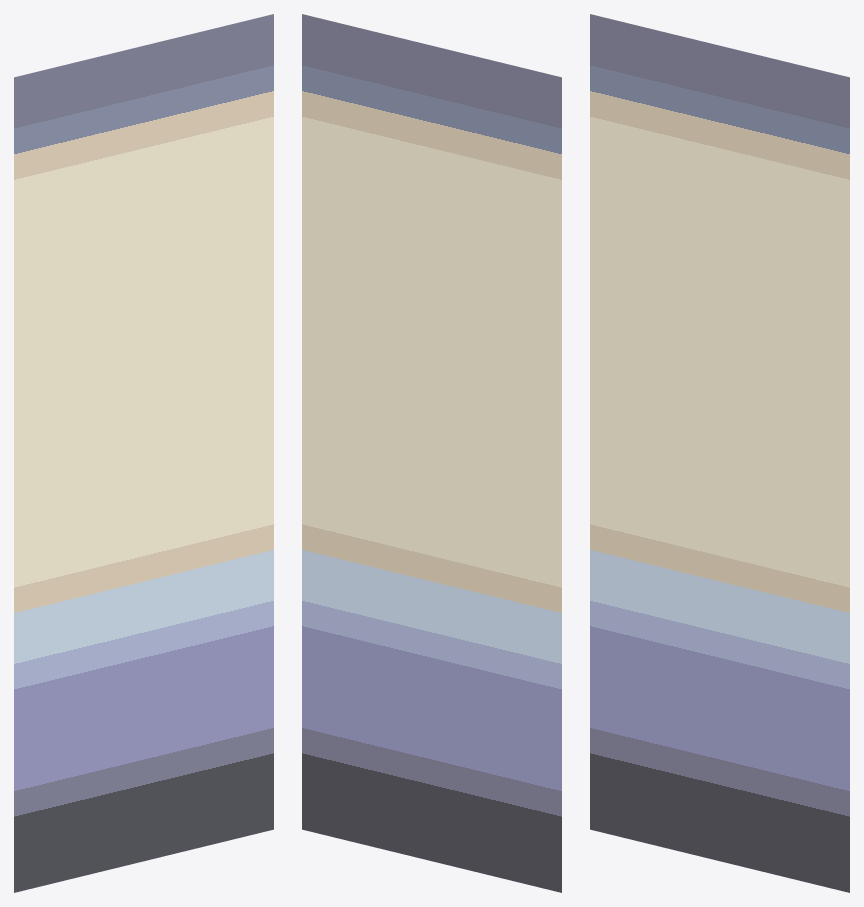
3 renders of one model, left to right at view 1: azimuth 30°, elevation 25°; view 2: azimuth 150°, elevation 25°; view 3: azimuth 330°, elevation 25°, orthographic.
Size of the model in its own units: 1 by 3 by 0.
Materials: 1 (1 with a texture image).
